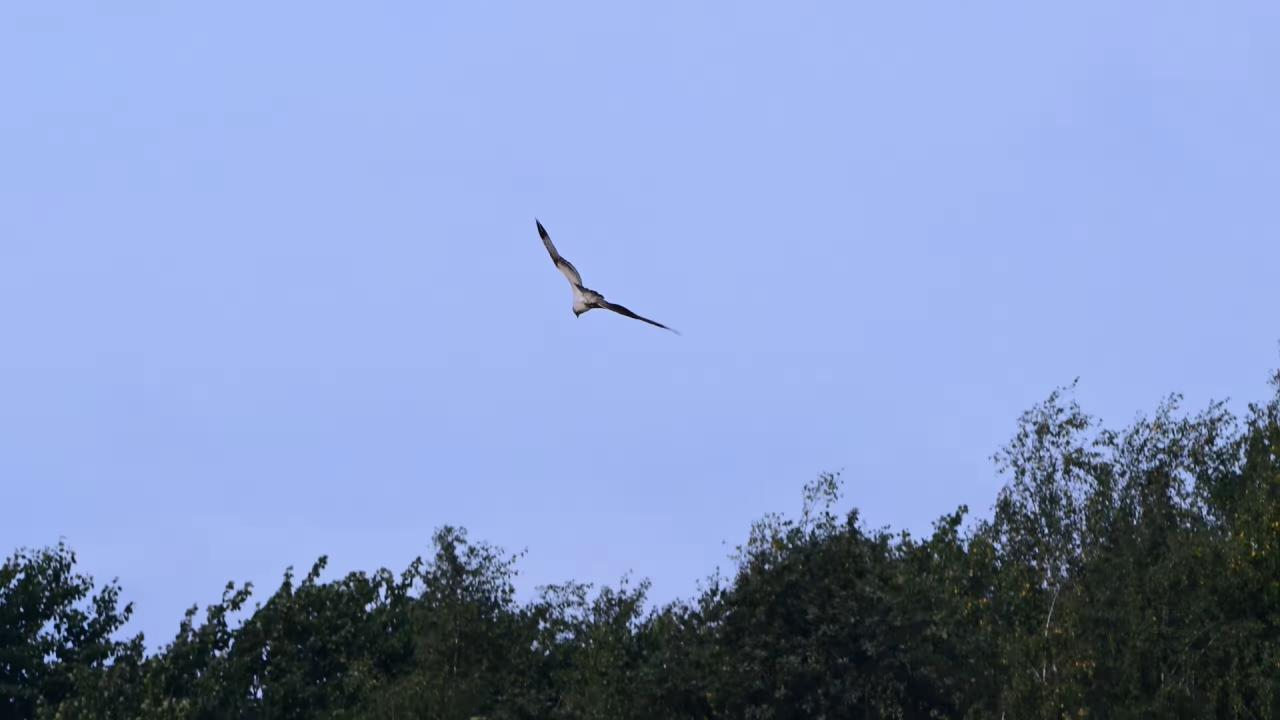Bird: (525, 210, 689, 357)
